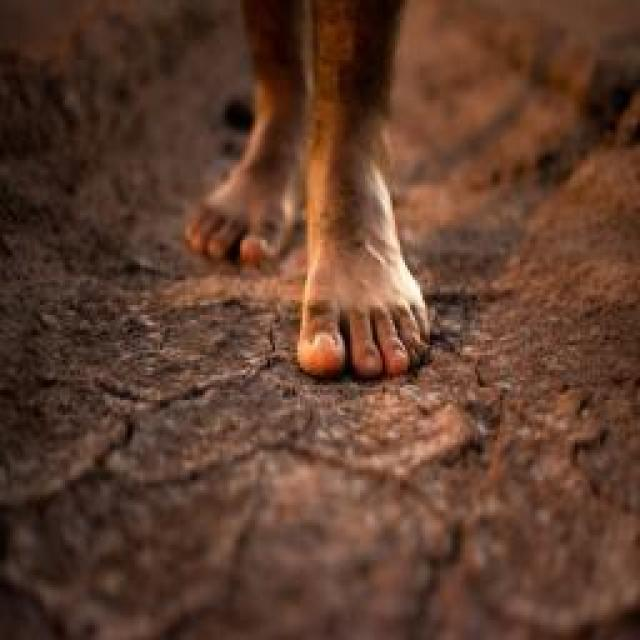No_Shoes: (292, 109, 439, 419), (194, 85, 301, 252)
